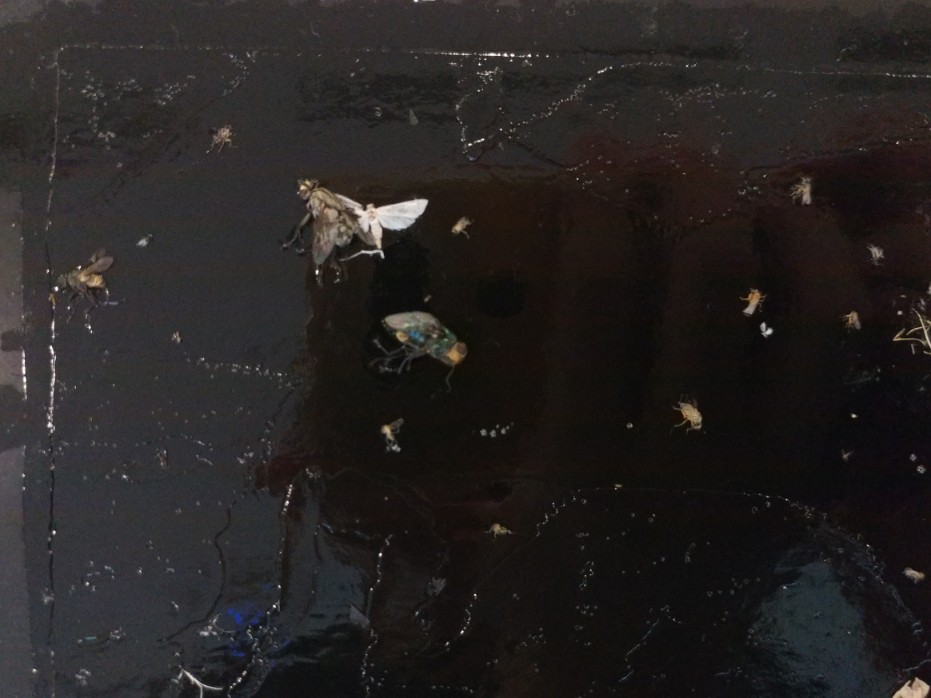fly: (268, 171, 435, 289), (354, 298, 484, 396)
